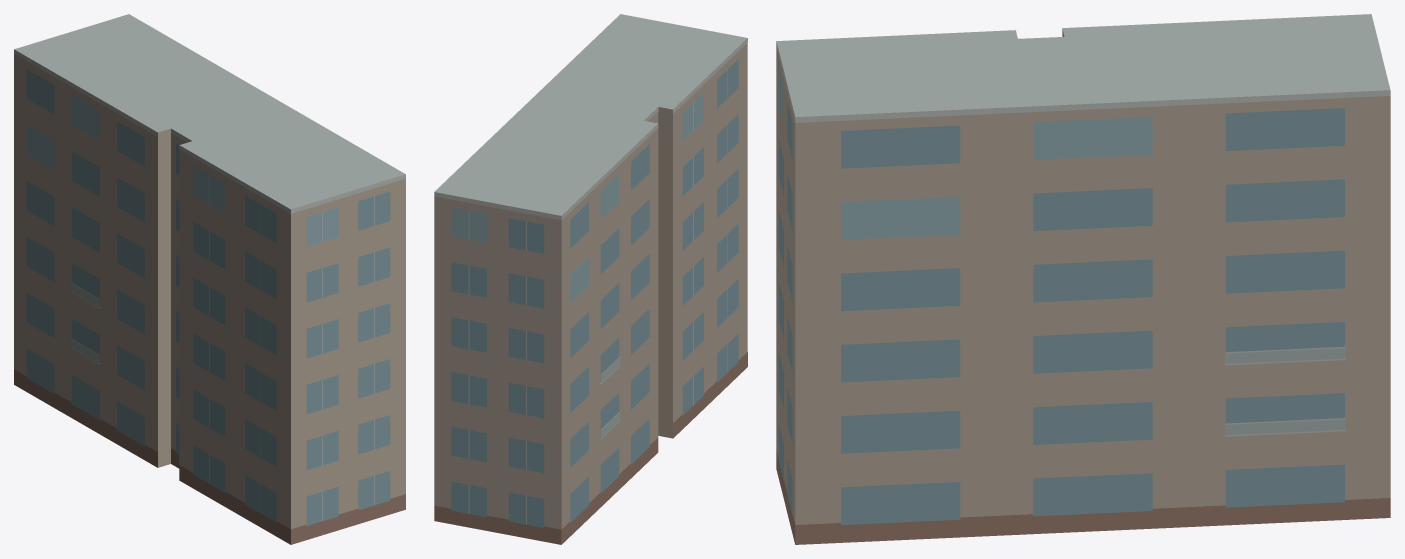
The model's file is survey-upis-32938297.glb.
The picture shows the model from 3 angles, left to right: view 1: azimuth 30°, elevation 25°; view 2: azimuth 150°, elevation 25°; view 3: azimuth 270°, elevation 25°; orthographic projection. The views are drawn at different scales.
Visible parts, largest first — view 1: survey-upis-32938297.tmp; view 2: survey-upis-32938297.tmp; view 3: survey-upis-32938297.tmp.
Part boxes in pixels (<box>): survey-upis-32938297.tmp: <box>14,14,405,544</box>; survey-upis-32938297.tmp: <box>434,14,747,544</box>; survey-upis-32938297.tmp: <box>776,14,1390,544</box>.
Bounding box in the file's own units: 9.43 × 18.2 × 23.7.
